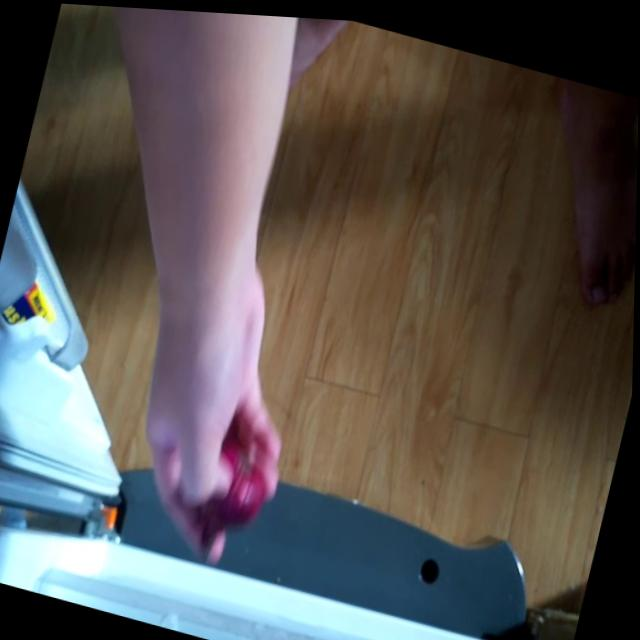onion: (187, 429, 279, 561)
